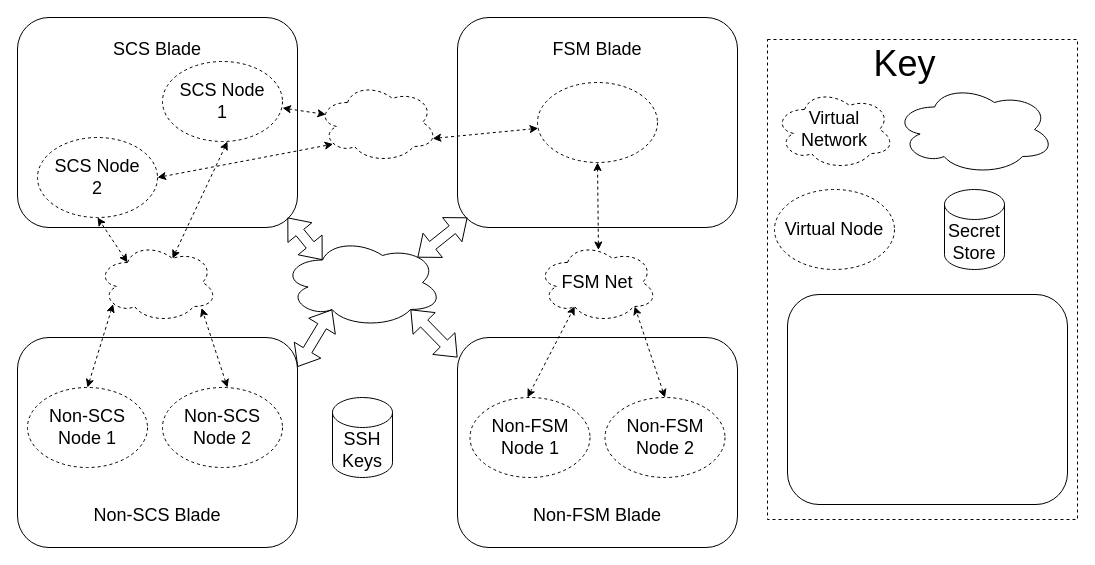
Image size: 1095x565. Some labels were removed from this diagram. Here are the shapes that lost their labels. From the top down, the centre of each, then its label:
At (377,122): "Cross Net".
At (597,122): "FSM Node".
At (974,129): "Blade Interconnect".
At (157,282): "SCS Net".
At (362,282): "Demo Interconnect".
At (927,399): "Virtual Blade".
